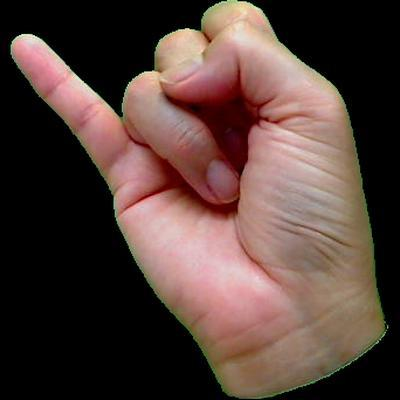J: (0, 0, 332, 399)
